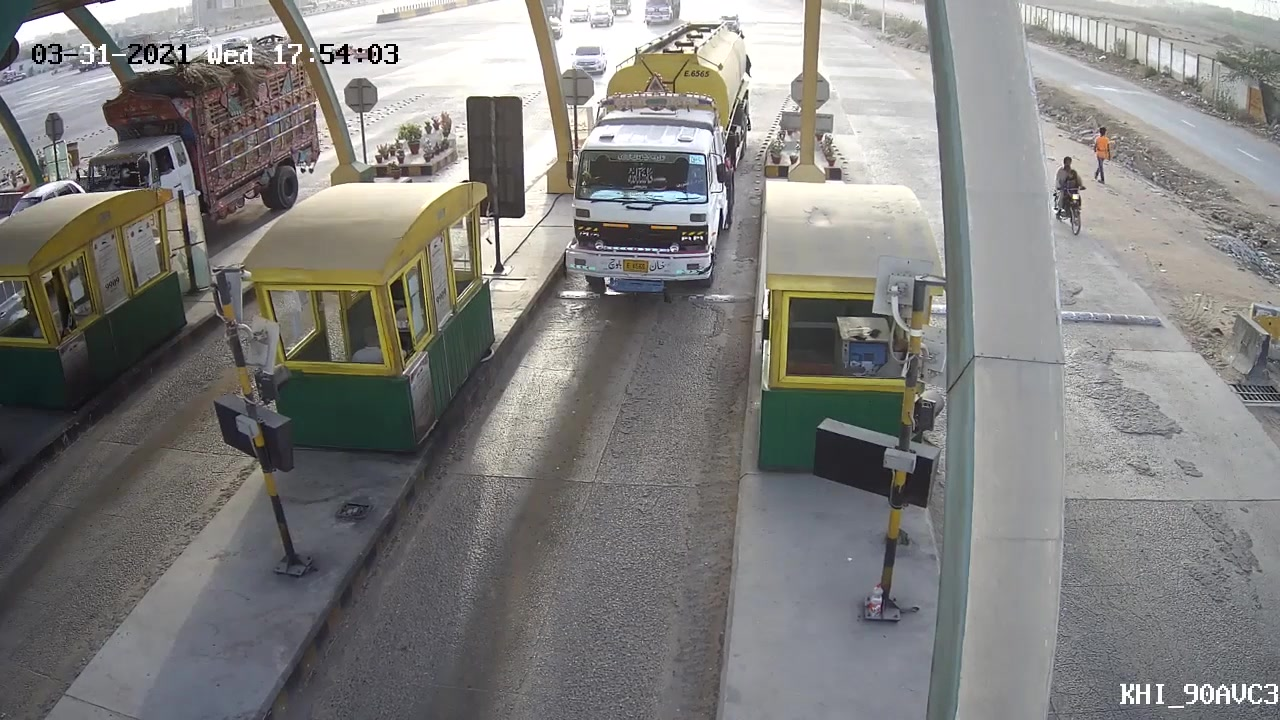F6: (550, 20, 757, 298)
